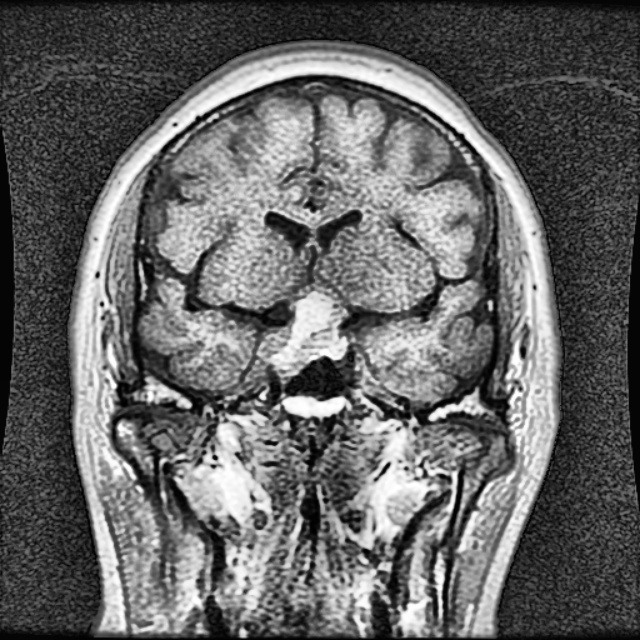Pituitary: (258, 292, 347, 375)
